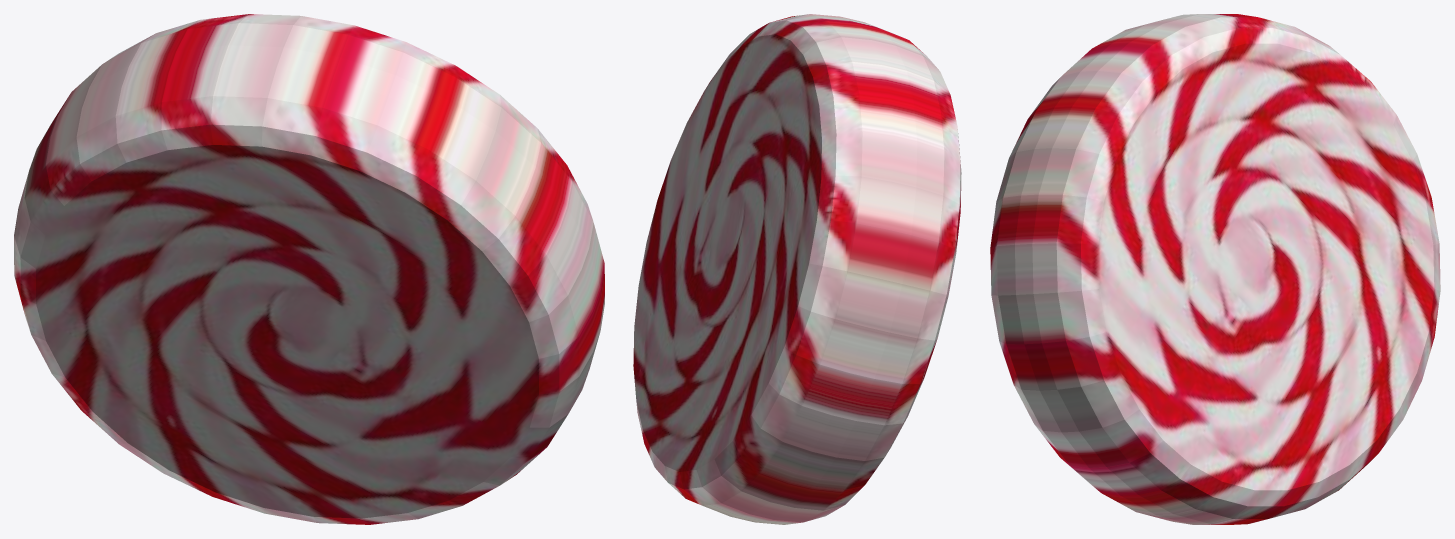
File: Zaeltli-Spirale--unten-01.gltf
3 renders of one model, left to right at view 1: azimuth 30°, elevation 25°; view 2: azimuth 150°, elevation 25°; view 3: azimuth 270°, elevation 25°, orthographic. The views are drawn at different scales.
Visible parts, largest first — view 1: Zaeltli-Spirale--unten-01; view 2: Zaeltli-Spirale--unten-01; view 3: Zaeltli-Spirale--unten-01.
Boxes of the visible parts, x1,y1,x2,y2 form: Zaeltli-Spirale--unten-01: [14, 14, 604, 524]; Zaeltli-Spirale--unten-01: [633, 14, 961, 524]; Zaeltli-Spirale--unten-01: [990, 14, 1440, 524].
Size of the model in its own units: 0.8766 by 0.9834 by 0.8779.
Materials: 1 (1 with a texture image).
